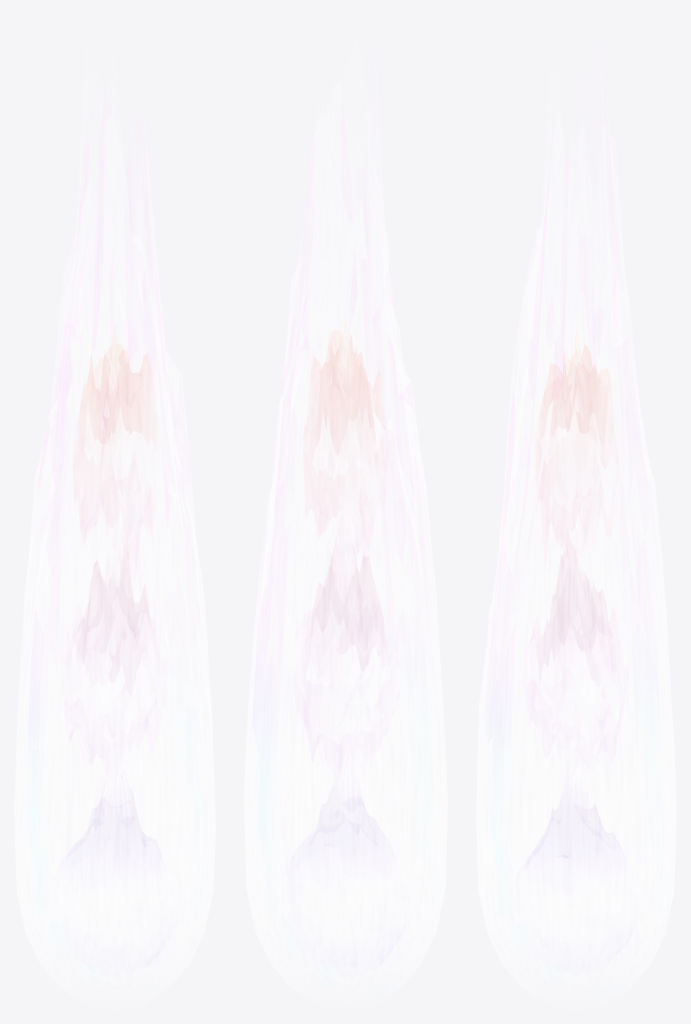
Rendered from boost.glb.
3 renders of one model, left to right at view 1: azimuth 30°, elevation 25°; view 2: azimuth 150°, elevation 25°; view 3: azimuth 270°, elevation 25°, orthographic.
Visible parts, largest first — view 1: Cylinder.465_3, Cylinder.466_2; view 2: Cylinder.465_3, Cylinder.466_2; view 3: Cylinder.465_3, Cylinder.466_2.
Boxes of the visible parts, x1,y1,x2,y2 form: Cylinder.465_3: (14,65,215,1005); Cylinder.466_2: (62,333,165,982); Cylinder.465_3: (244,62,447,1002); Cylinder.466_2: (291,338,397,981); Cylinder.465_3: (476,85,676,1002); Cylinder.466_2: (517,343,628,979).
Bounding box in the file's own units: 0.5842 × 3.11 × 0.5842.
2 materials, 2 textured.
